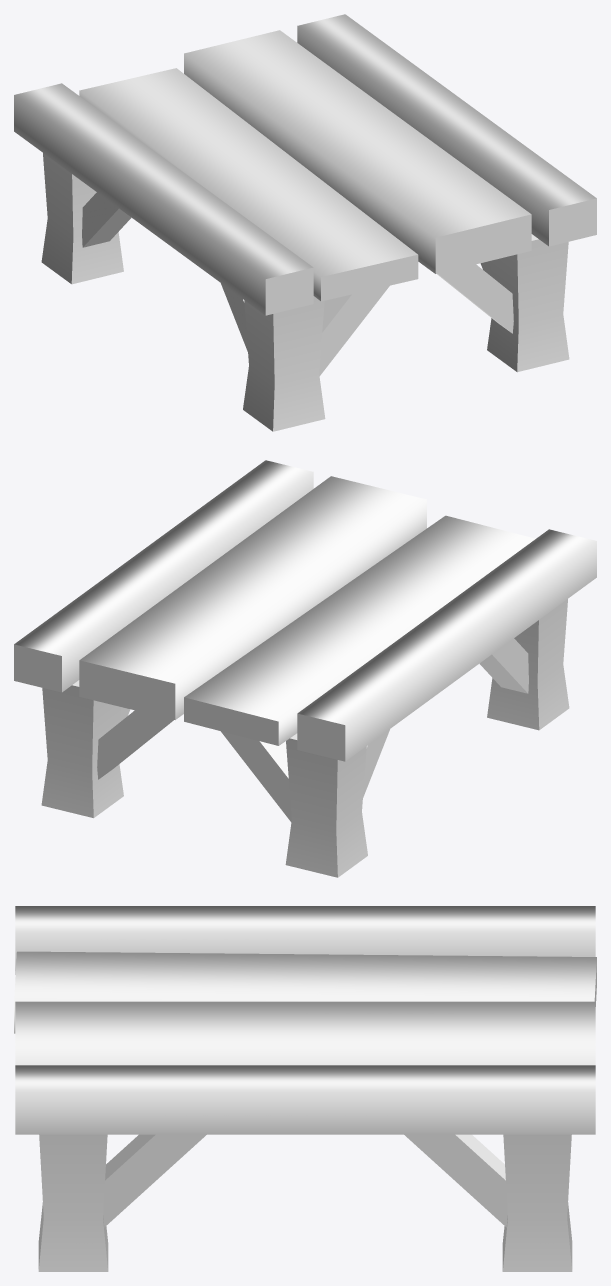
Rendered from structure-platform-small.glb.
The picture shows the model from 3 angles, top to bottom: view 1: azimuth 30°, elevation 25°; view 2: azimuth 150°, elevation 25°; view 3: azimuth 270°, elevation 25°; orthographic projection. The views are drawn at different scales.
Visible parts, largest first — view 1: structure-platform-small; view 2: structure-platform-small; view 3: structure-platform-small.
Part boxes in pixels (x1,y1,x2,y2): structure-platform-small: [14, 14, 596, 431]; structure-platform-small: [14, 460, 596, 877]; structure-platform-small: [14, 906, 596, 1271].
Bounding box in the file's own units: 1.9 × 0.9 × 2.51.
Materials: 1 (1 with a texture image).
